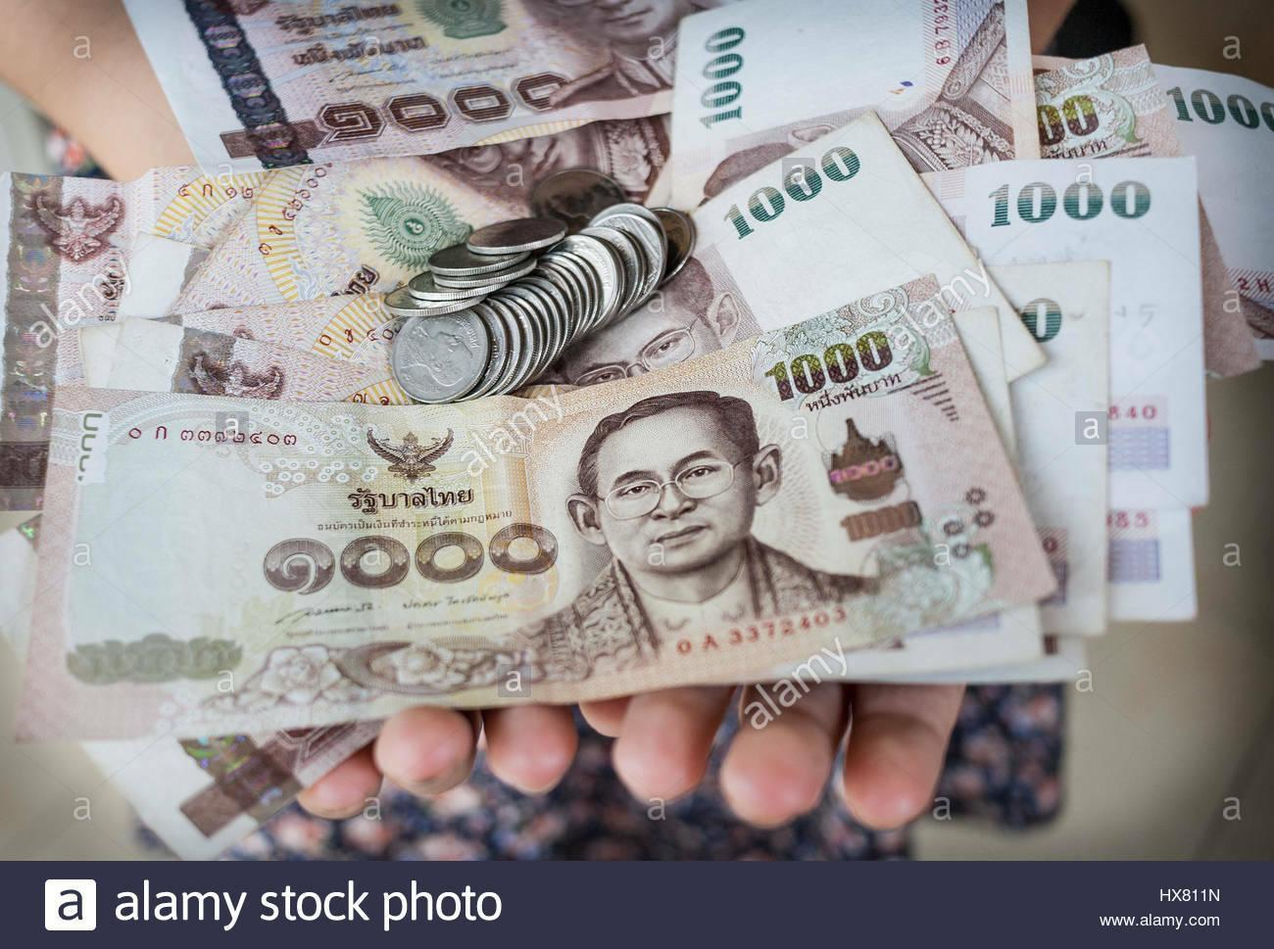1000BahtTai: (35, 288, 973, 681)
